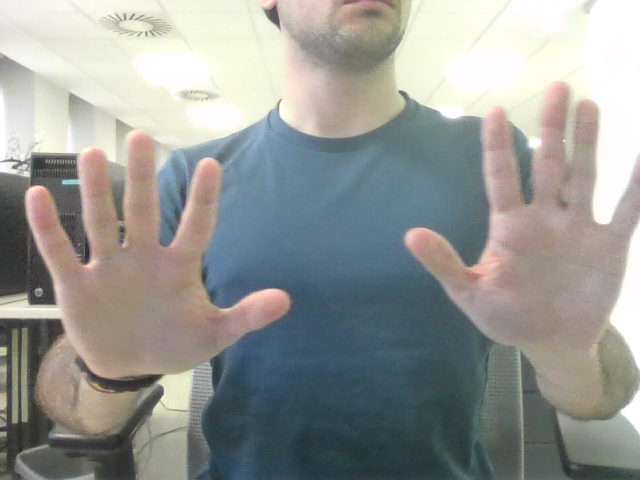Manos Arriba: (67, 106, 618, 339)
